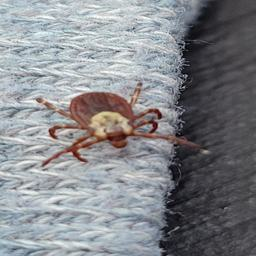Dermacentor variabilis: (34, 82, 198, 168)
